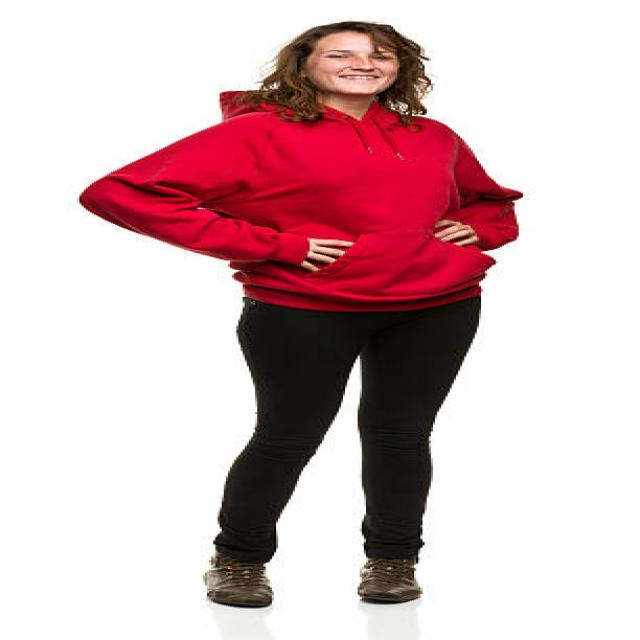Edited images: (54, 13, 532, 610)
